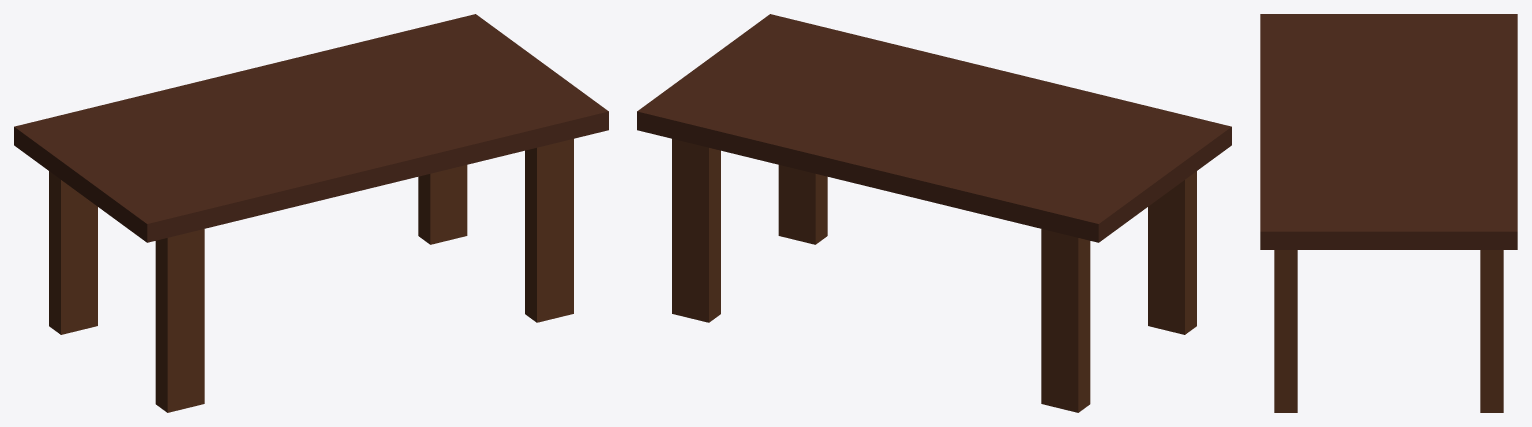
File: mess_table.glb
3 views of the same model, side by side, from view 1: azimuth 30°, elevation 25°; view 2: azimuth 150°, elevation 25°; view 3: azimuth 270°, elevation 25° (orthographic). The views are drawn at different scales.
Visible parts, largest first — view 1: body; view 2: body; view 3: body.
Boxes of the visible parts, bbox=[...] form: body: bbox=[14, 14, 608, 412]; body: bbox=[637, 14, 1231, 412]; body: bbox=[1260, 14, 1517, 412].
Size of the model in its own units: 1.8 by 0.748 by 0.898.
1 material, 1 textured.
